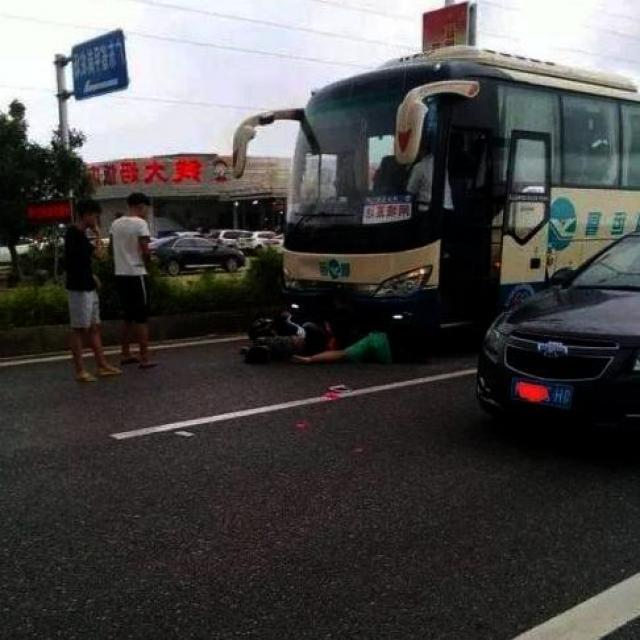fall: (270, 310, 467, 364)
